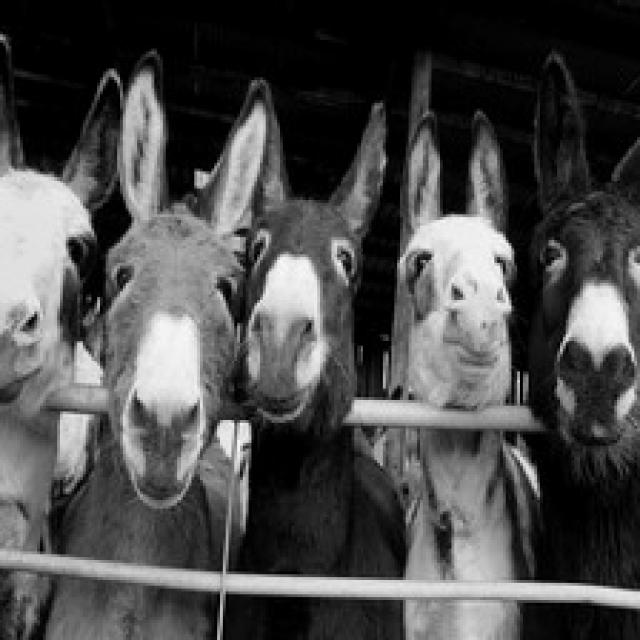Donkey: (34, 46, 269, 637), (220, 77, 406, 637), (394, 106, 543, 637), (0, 32, 123, 637), (520, 49, 637, 637)
